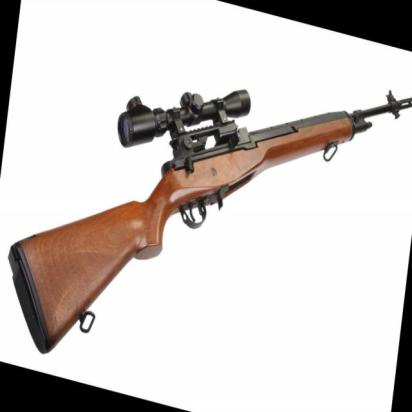Gun: (0, 81, 406, 354)
